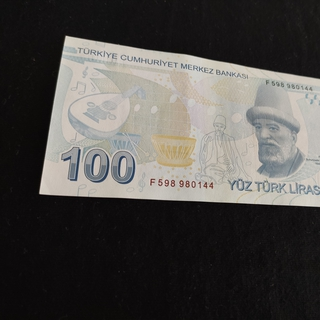100TLBack: (38, 35, 320, 211)
